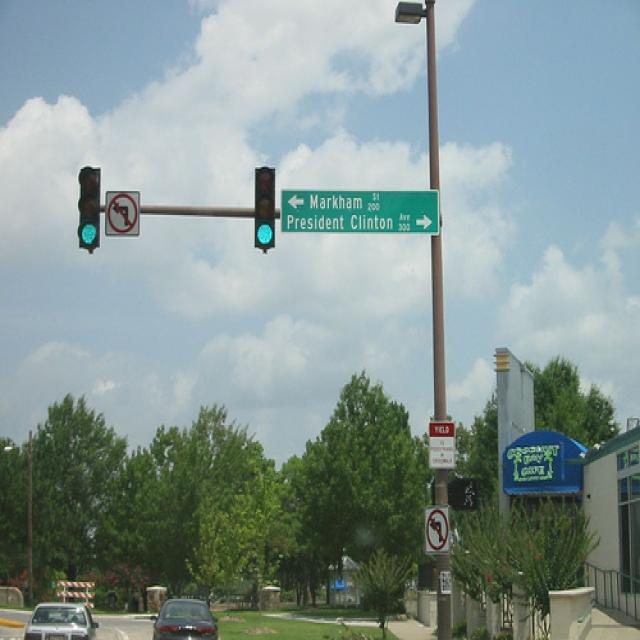Vehicle: (24, 602, 100, 640), (150, 598, 218, 640)
